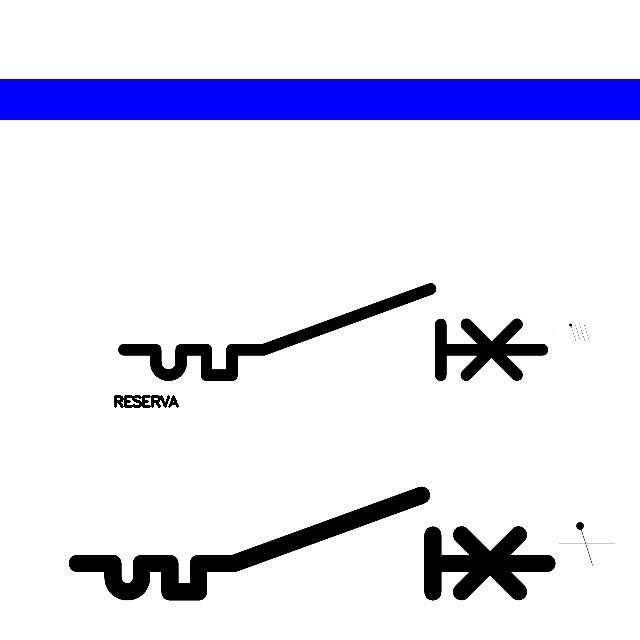interruptor_termomagnetico: (65, 483, 559, 604), (113, 278, 553, 386)
